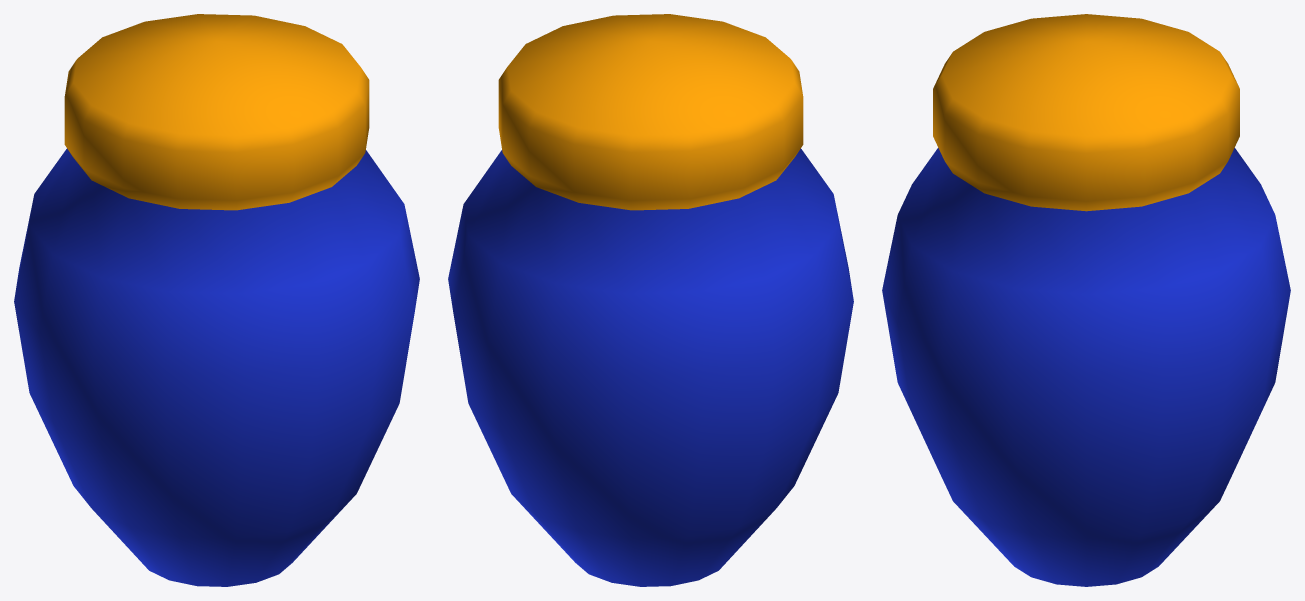
File: Lamp.fbx
3 views of the same model, side by side, from view 1: azimuth 30°, elevation 25°; view 2: azimuth 150°, elevation 25°; view 3: azimuth 270°, elevation 25° (orthographic).
Visible parts, largest first — view 1: Lamp; view 2: Lamp; view 3: Lamp.
Part boxes in pixels (box(x1,y1,x2,y2)): Lamp: box(14, 14, 419, 586); Lamp: box(448, 14, 853, 586); Lamp: box(882, 14, 1290, 586).
Size of the model in its own units: 0.6734 by 0.987 by 0.6734.
